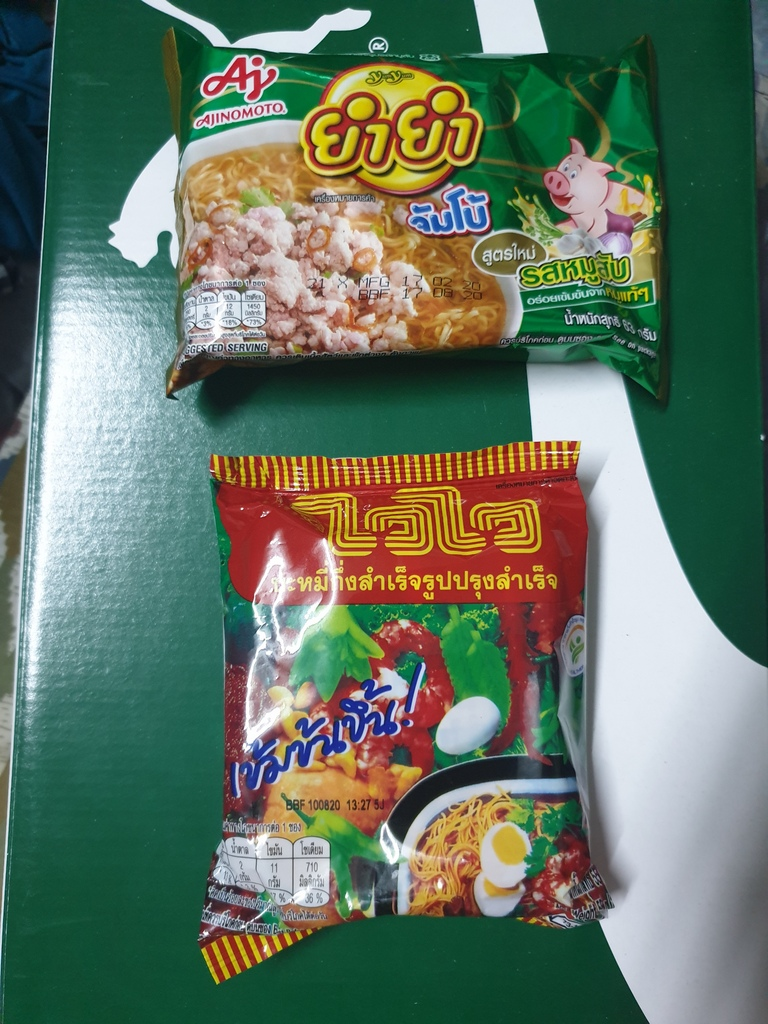waiwai: (205, 447, 622, 954)
yumyum: (156, 21, 686, 401)
